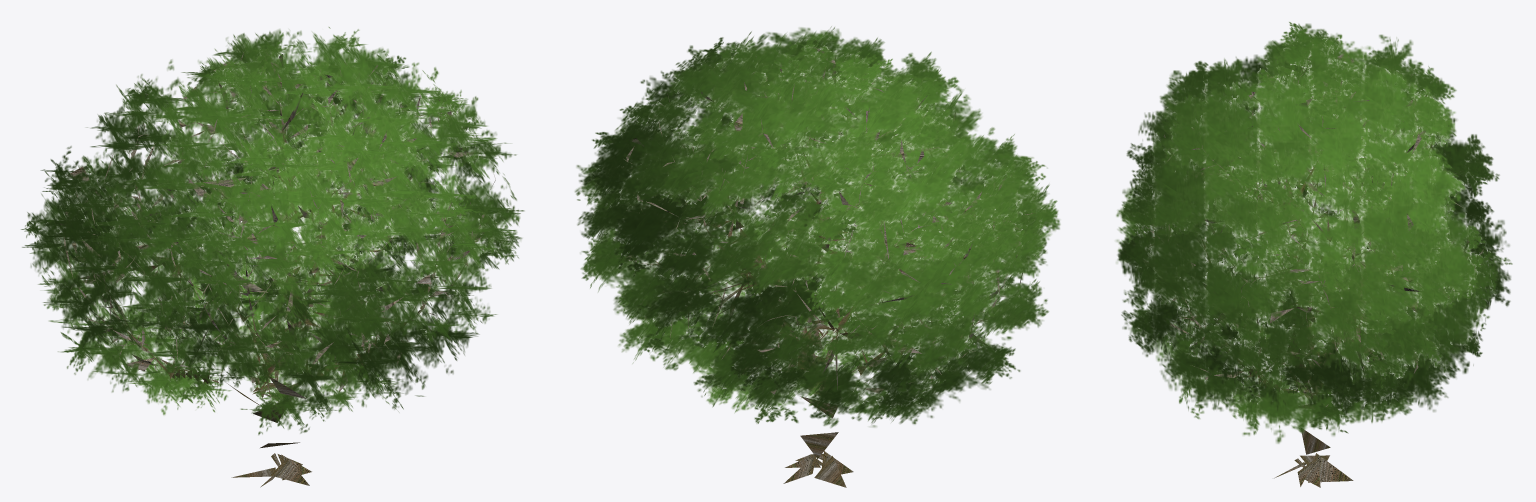
Rendered from world_tree_oak_near.glb.
The picture shows the model from 3 angles, left to right: view 1: azimuth 30°, elevation 25°; view 2: azimuth 150°, elevation 25°; view 3: azimuth 270°, elevation 25°; orthographic projection.
Parts seen in each view (by area): view 1: Canopy, Scaffold; view 2: Canopy, Scaffold; view 3: Canopy, Scaffold.
Part boxes in pixels (<box>): Canopy: <box>21,27,524,434</box>; Scaffold: <box>60,52,495,487</box>; Canopy: <box>575,26,1060,427</box>; Scaffold: <box>622,47,1034,487</box>; Canopy: <box>1116,22,1512,443</box>; Scaffold: <box>1144,52,1483,487</box>.
Size of the model in its own units: 10.52 by 9.17 by 8.24.
Materials: 2 (2 with a texture image).
